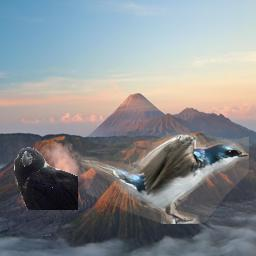Crow: (13, 147, 78, 210)
Swallow: (78, 132, 249, 224)
